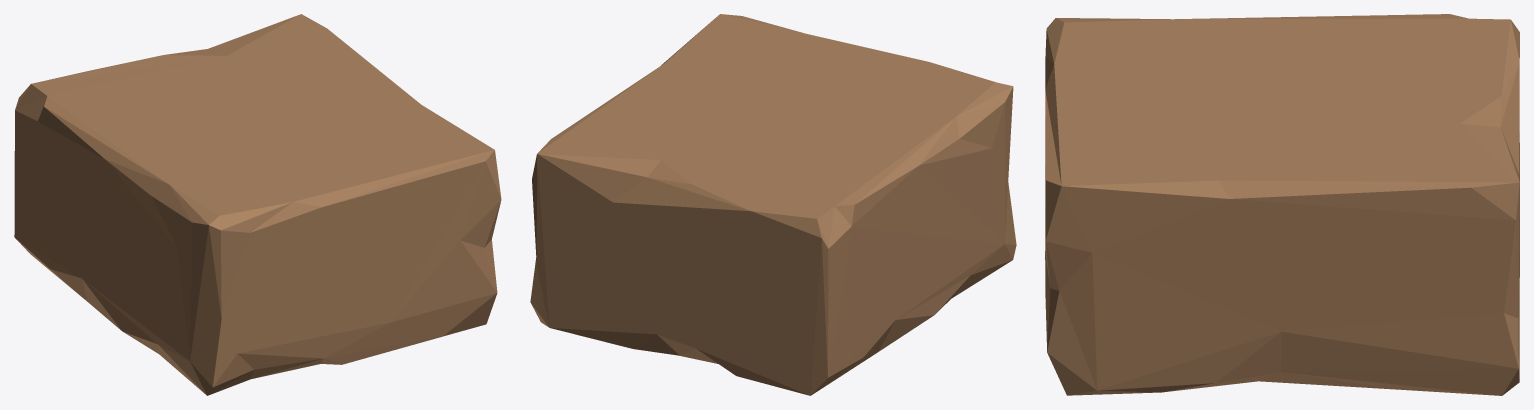
File: SM_large_brick_07.fbx
3 renders of one model, left to right at view 1: azimuth 30°, elevation 25°; view 2: azimuth 150°, elevation 25°; view 3: azimuth 270°, elevation 25°, orthographic. The views are drawn at different scales.
Parts seen in each view (by area): view 1: large_brick_07; view 2: large_brick_07; view 3: large_brick_07.
Part boxes in pixels (left/top/right/bottom): large_brick_07: left=14, top=14, right=501, bottom=395; large_brick_07: left=530, top=14, right=1016, bottom=395; large_brick_07: left=1045, top=14, right=1519, bottom=395.
Size of the model in its own units: 142 by 80.46 by 162.
